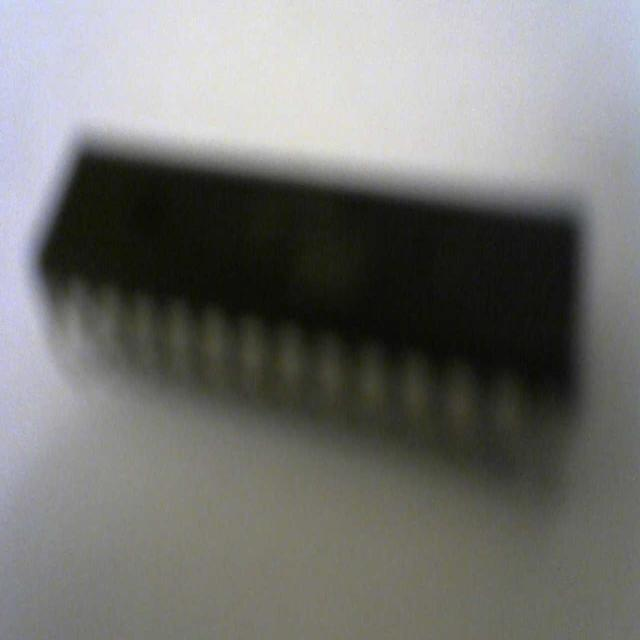atmega: (32, 126, 594, 478)
